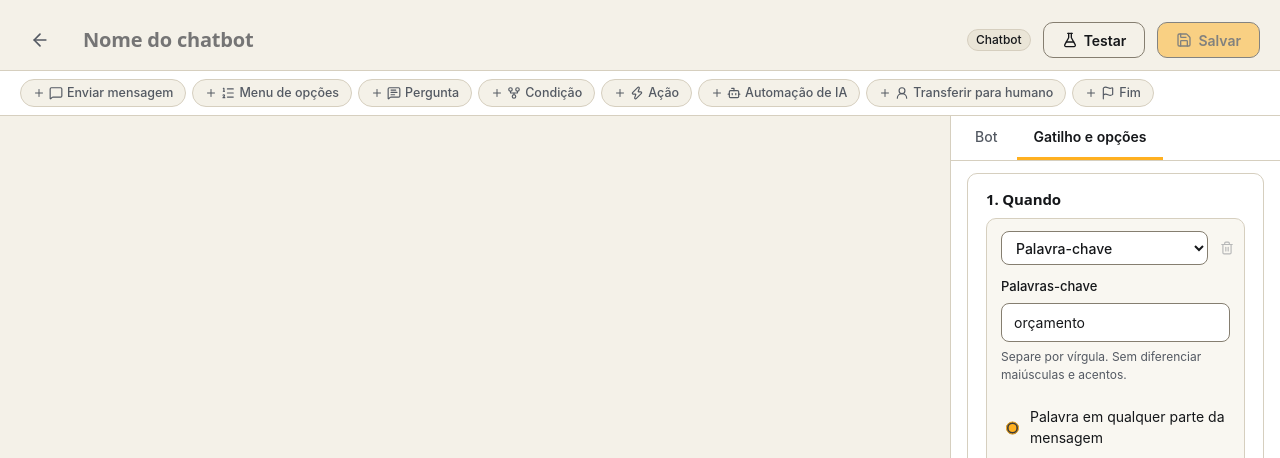
EditorChatbot › mostra os nós do bot novo e destaca os nós com erro da validação
(page scrolled)
Type "Qualificação" into the field labelled "Nome do chatbot" at (514, 40), box [72, 20, 955, 60]
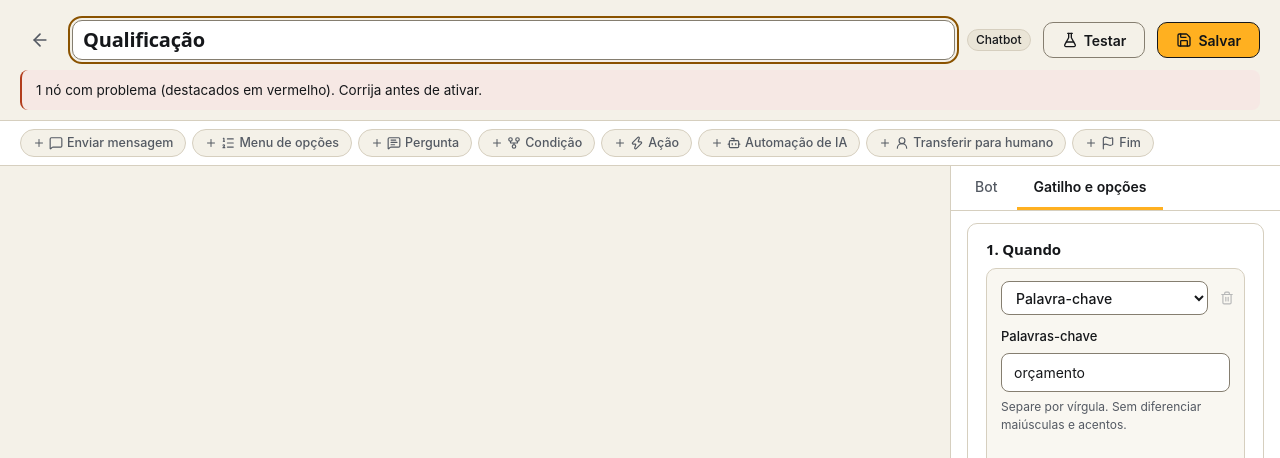
Expected: the text "1 nó com problema" is shown, [36, 82, 157, 98]
